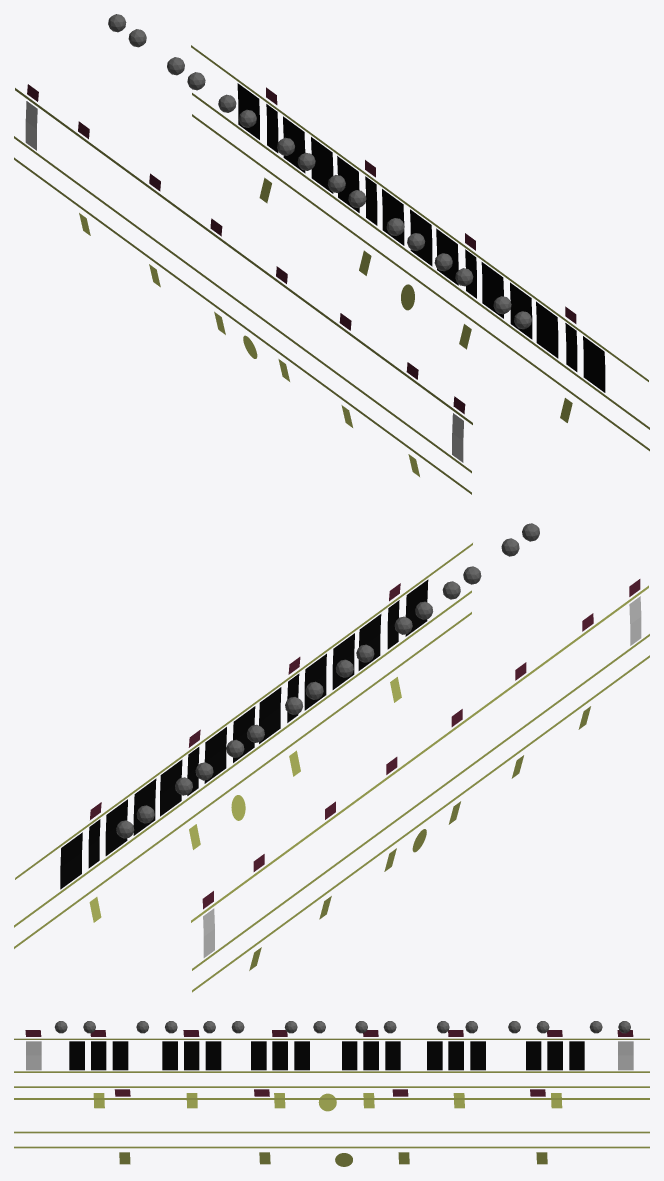
File: lms-period1-cor-first-windows.dae
The picture shows the model from 3 angles, top to bottom: view 1: azimuth 30°, elevation 25°; view 2: azimuth 150°, elevation 25°; view 3: azimuth 270°, elevation 25°; orthographic projection. The views are drawn at different scales.
Visible parts, largest first — view 1: Plane_1041, Plane_1043, Plane_1046, Plane_1044, Plane_1045, Plane_1042, Plane_1040, Plane_1034, Plane_1031, Plane_1038, Plane_1036, Plane_1039 (+3 smaller); view 2: Plane_1041, Plane_1043, Plane_1046, Plane_1044, Plane_1045, Plane_1042, Plane_1033, Plane_1035, Plane_1032, Plane_1037, Plane_1014, Plane_1039 (+5 smaller); view 3: Plane_1045, Plane_1046, Plane_1041, Plane_1042, Plane_1043, Plane_1044, Plane_989, Plane_997, Plane_984, Plane_986, Plane_990, Plane_991 (+15 smaller).
Part boxes in pixels (x1,y1,x2,y2): Plane_1041: (15, 88, 472, 424); Plane_1043: (14, 136, 471, 473); Plane_1046: (192, 93, 649, 429); Plane_1044: (14, 157, 471, 494); Plane_1045: (192, 114, 649, 451); Plane_1042: (191, 45, 648, 381); Plane_1040: (536, 301, 558, 358); Plane_1034: (583, 336, 605, 392); Plane_1031: (311, 137, 333, 193); Plane_1038: (481, 262, 503, 318); Plane_1036: (410, 209, 432, 266); Plane_1039: (510, 282, 532, 339); Plane_1041: (191, 585, 648, 922); Plane_1043: (192, 634, 649, 970); Plane_1046: (14, 590, 471, 927); Plane_1044: (192, 655, 649, 992); Plane_1045: (14, 612, 471, 948); Plane_1042: (15, 543, 472, 879); Plane_1033: (60, 832, 82, 889); Plane_1035: (259, 687, 281, 743); Plane_1032: (160, 759, 182, 816); Plane_1037: (204, 727, 226, 783); Plane_1014: (105, 799, 127, 855); Plane_1039: (332, 633, 354, 689); Plane_1045: (14, 1146, 649, 1148); Plane_1046: (14, 1131, 649, 1133); Plane_1041: (14, 1038, 649, 1039); Plane_1042: (14, 1098, 649, 1099); Plane_1043: (14, 1071, 649, 1072); Plane_1044: (14, 1086, 649, 1087); Plane_989: (112, 1041, 128, 1070); Plane_997: (205, 1041, 221, 1070); Plane_984: (26, 1041, 41, 1070); Plane_986: (69, 1041, 84, 1070); Plane_990: (294, 1041, 309, 1070); Plane_991: (272, 1041, 287, 1070).
Bounding box in the file's own units: 2.21 × 9.85 × 1.99.
